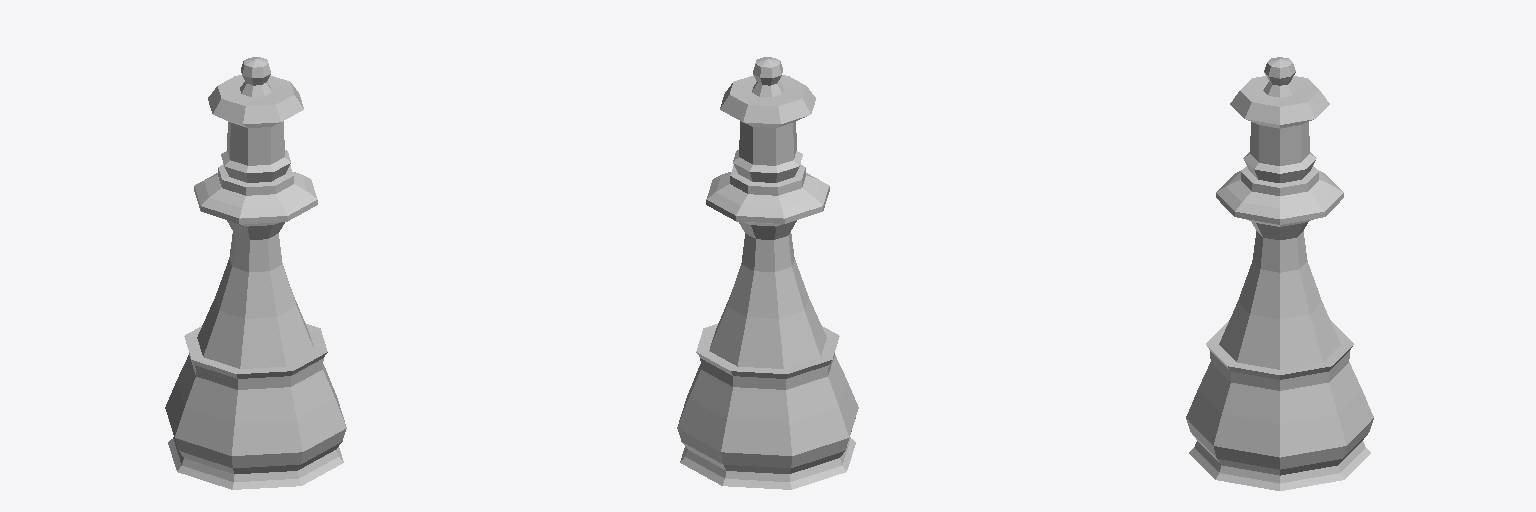
The model's file is queen.obj.
3 renders of one model, left to right at view 1: azimuth 30°, elevation 25°; view 2: azimuth 150°, elevation 25°; view 3: azimuth 270°, elevation 25°, orthographic.
Visible parts, largest first — view 1: o_o_g_default_g_defa_o_o_g_default_g_defau; view 2: o_o_g_default_g_defa_o_o_g_default_g_defau; view 3: o_o_g_default_g_defa_o_o_g_default_g_defau.
Boxes of the visible parts, x1,y1,x2,y2 form: o_o_g_default_g_defa_o_o_g_default_g_defau: [165, 57, 346, 489]; o_o_g_default_g_defa_o_o_g_default_g_defau: [677, 57, 858, 489]; o_o_g_default_g_defa_o_o_g_default_g_defau: [1186, 57, 1373, 490].
Bounding box in the file's own units: 5.07 × 11.7 × 5.07.